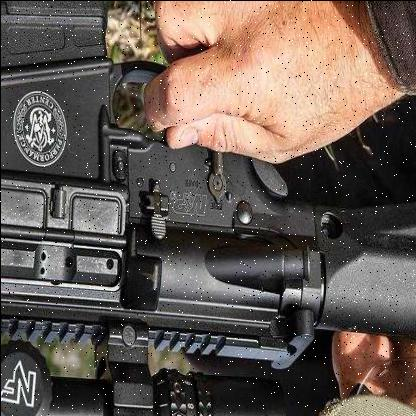rifle: (1, 1, 416, 398)
